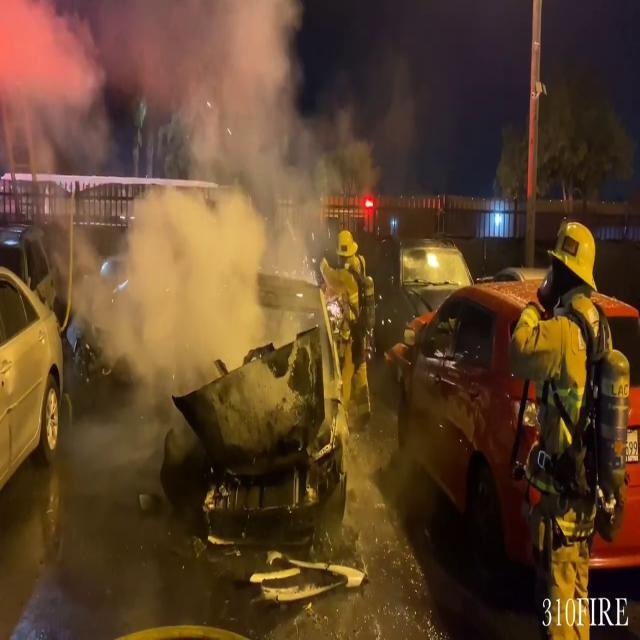Smoke: (0, 0, 338, 382)
